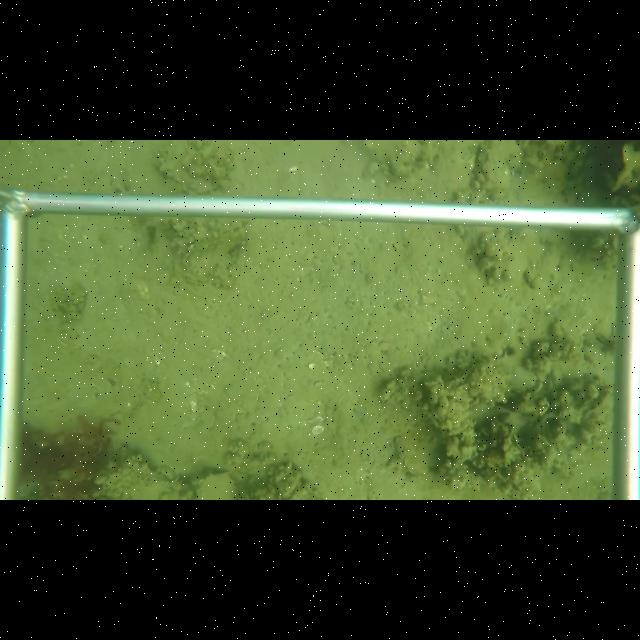Oyster-Closed: (392, 430, 429, 478), (195, 471, 241, 498)
Oyster-Open: (512, 431, 528, 467)
